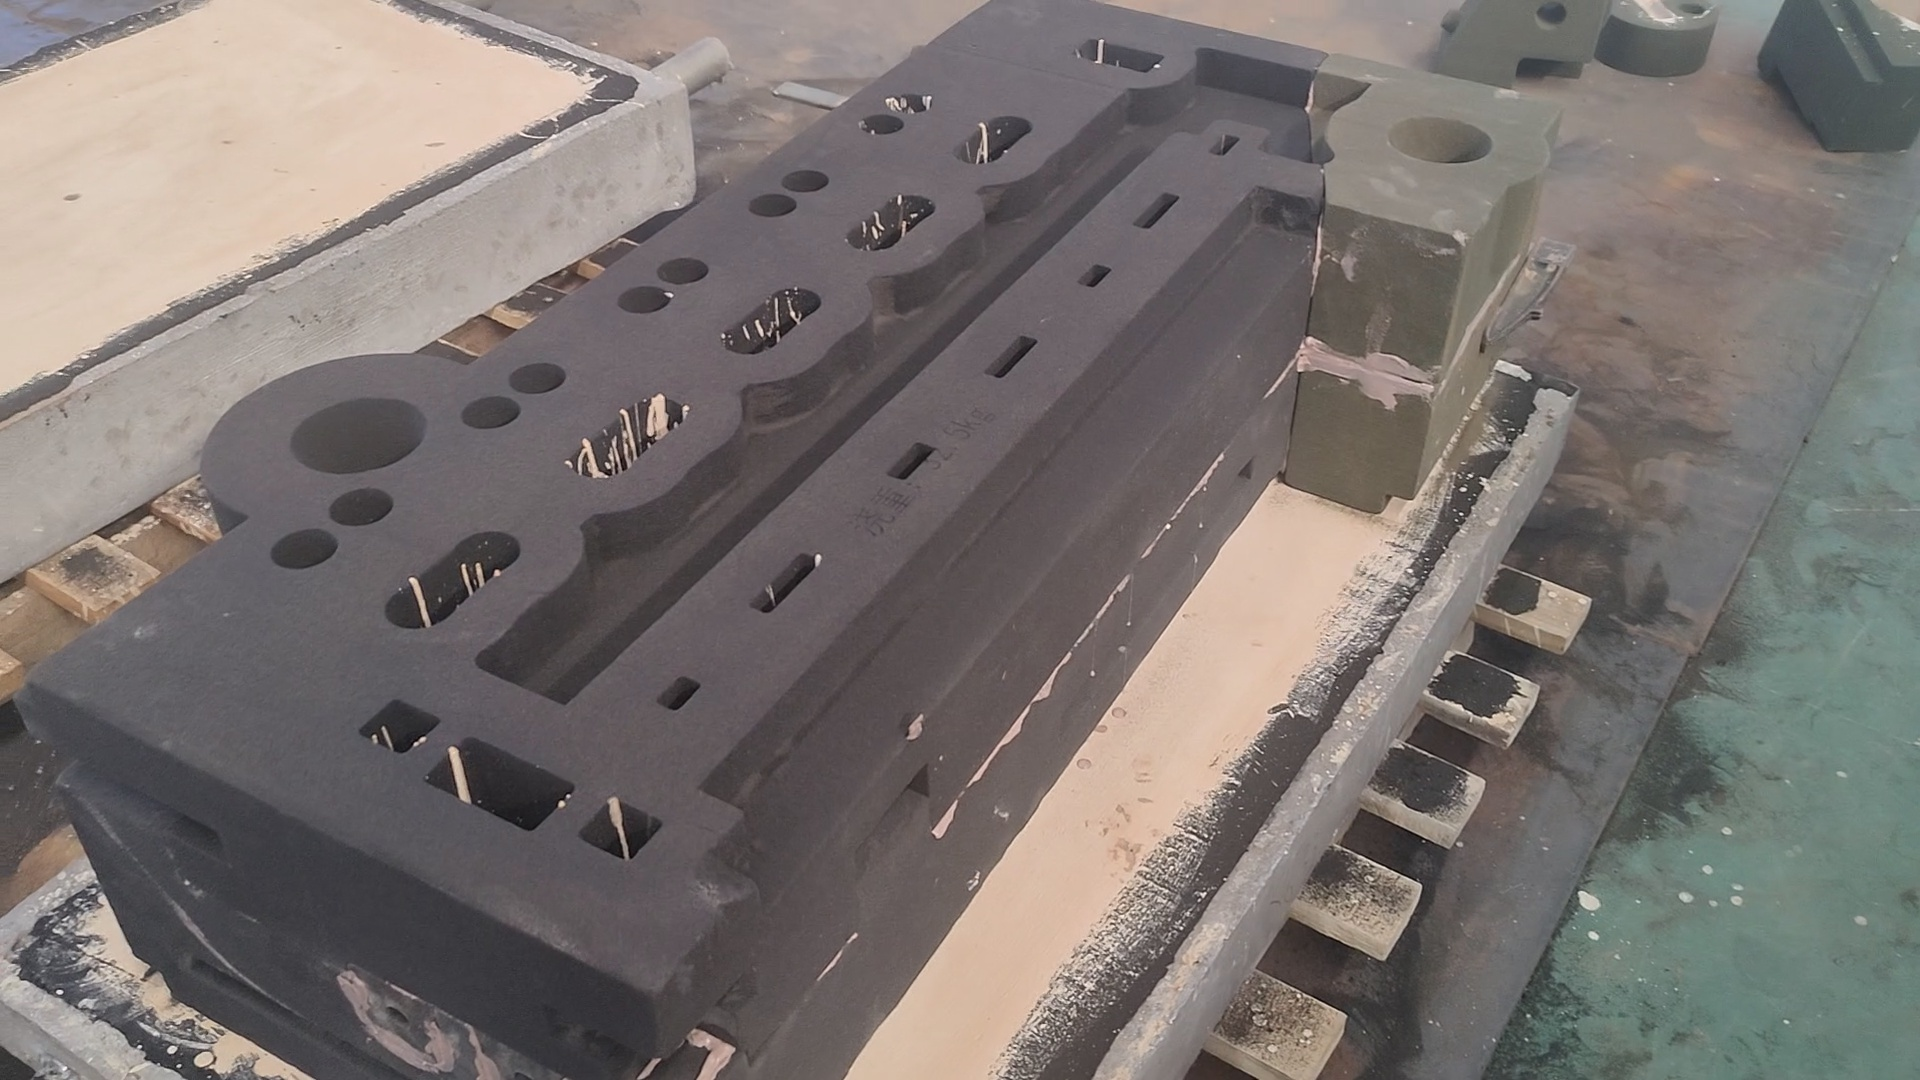pouring hole: (287, 396, 429, 476), (1386, 115, 1494, 166)
